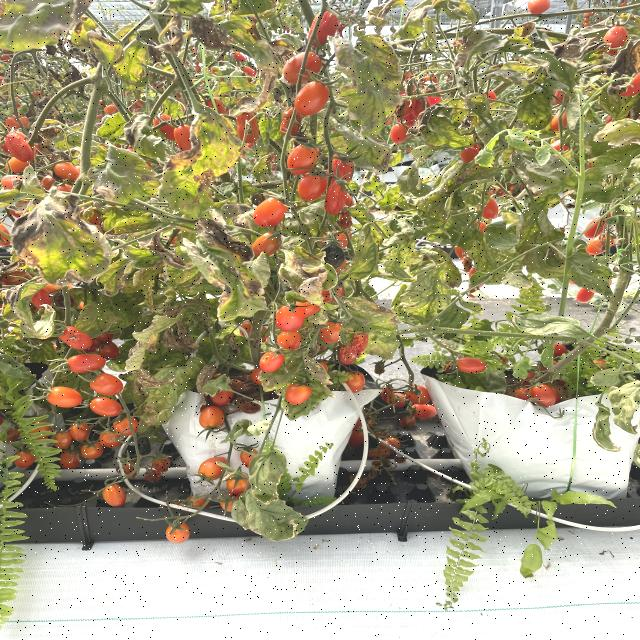Soilbag: (149, 365, 379, 506), (429, 364, 640, 500)
